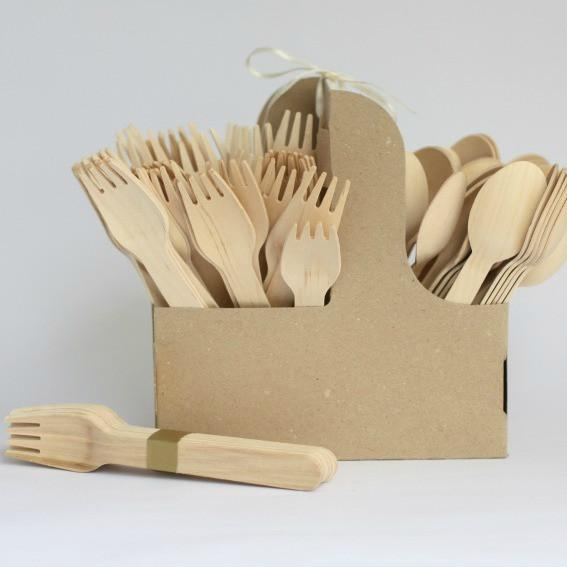Wooden Utensils: (47, 89, 567, 317), (9, 390, 355, 512)
